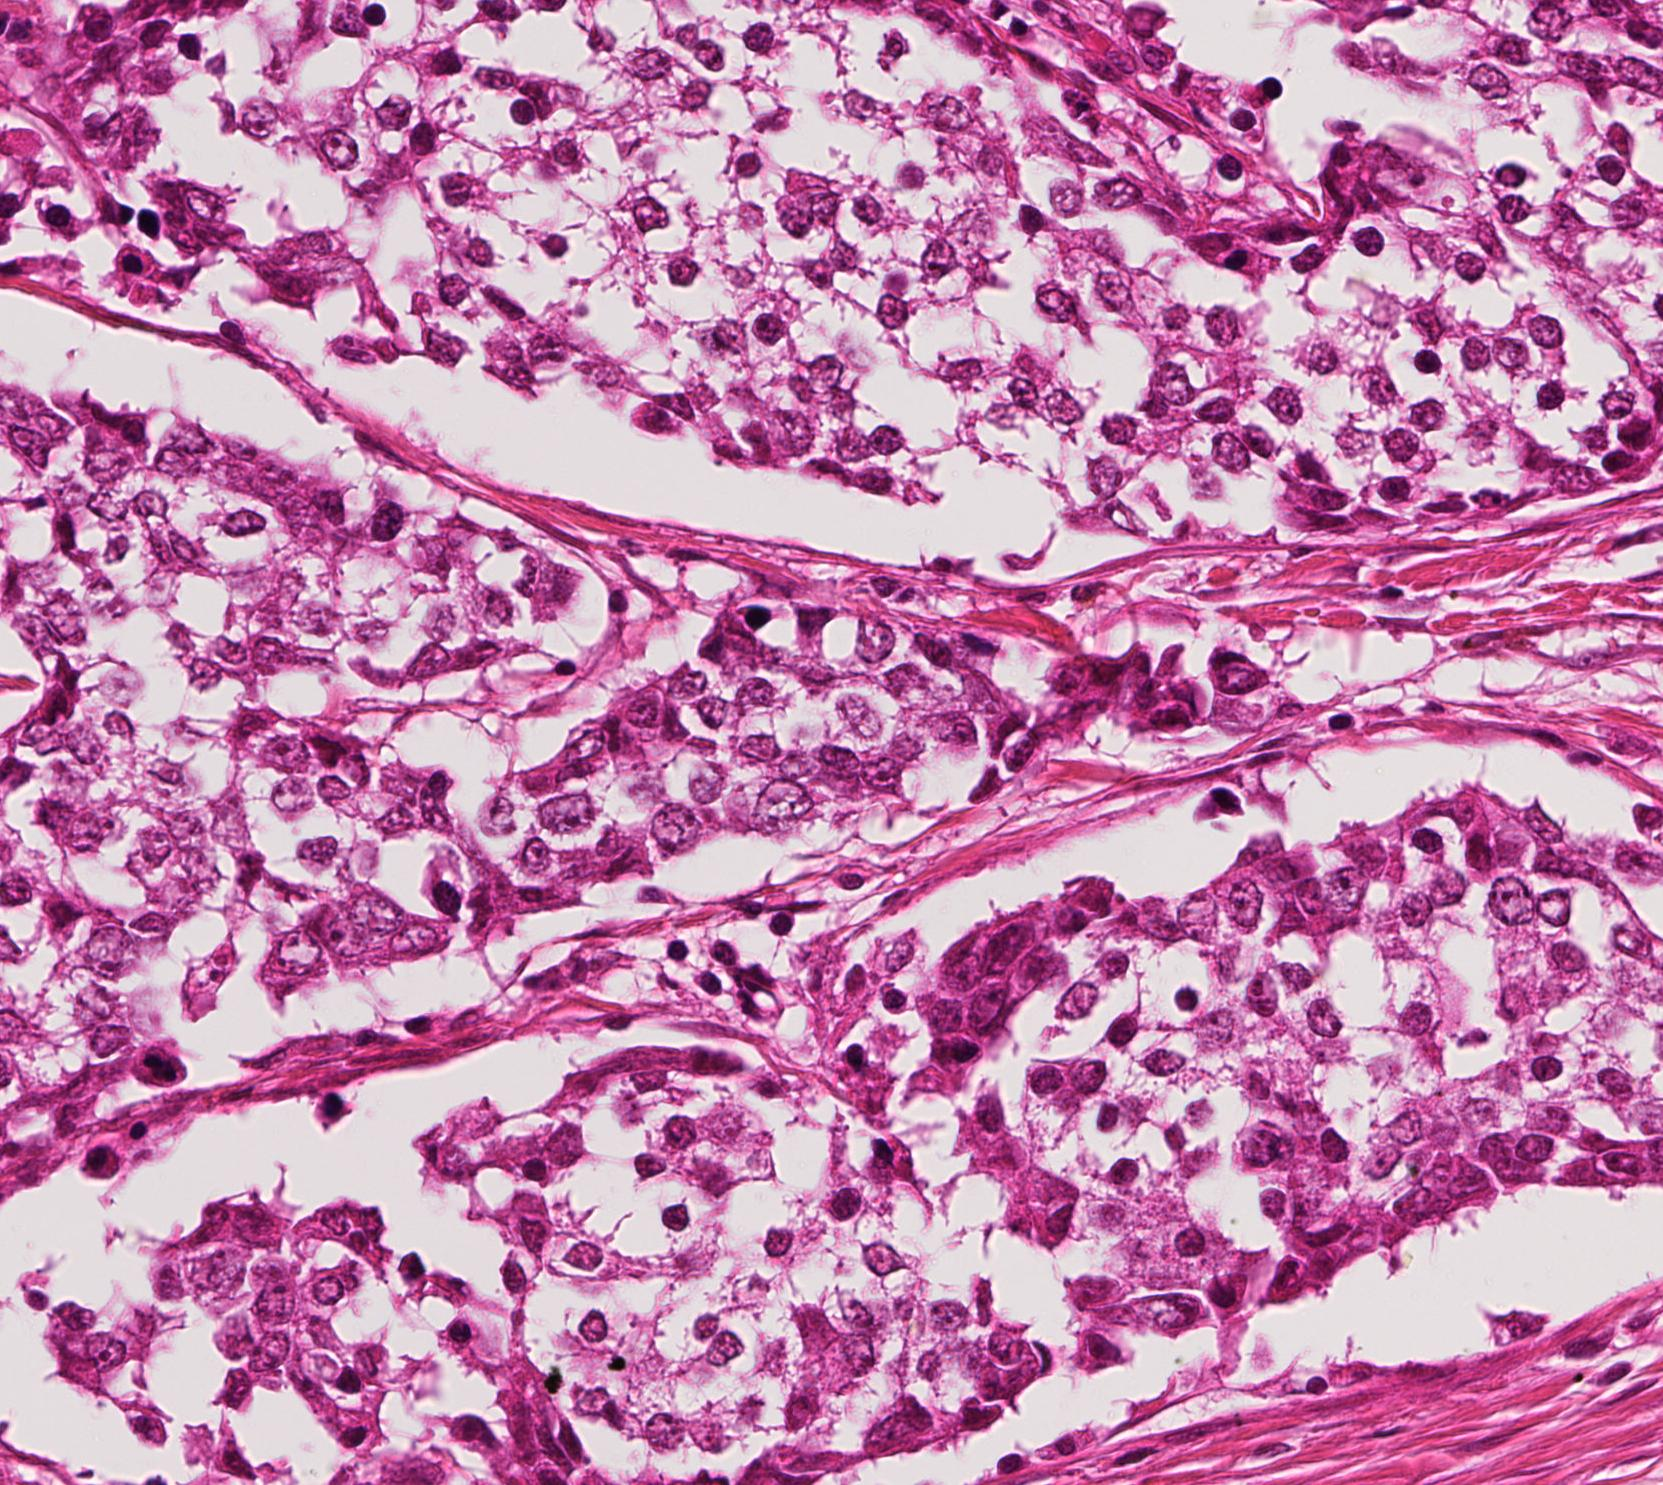mitosis: (128, 1035, 188, 1095)
